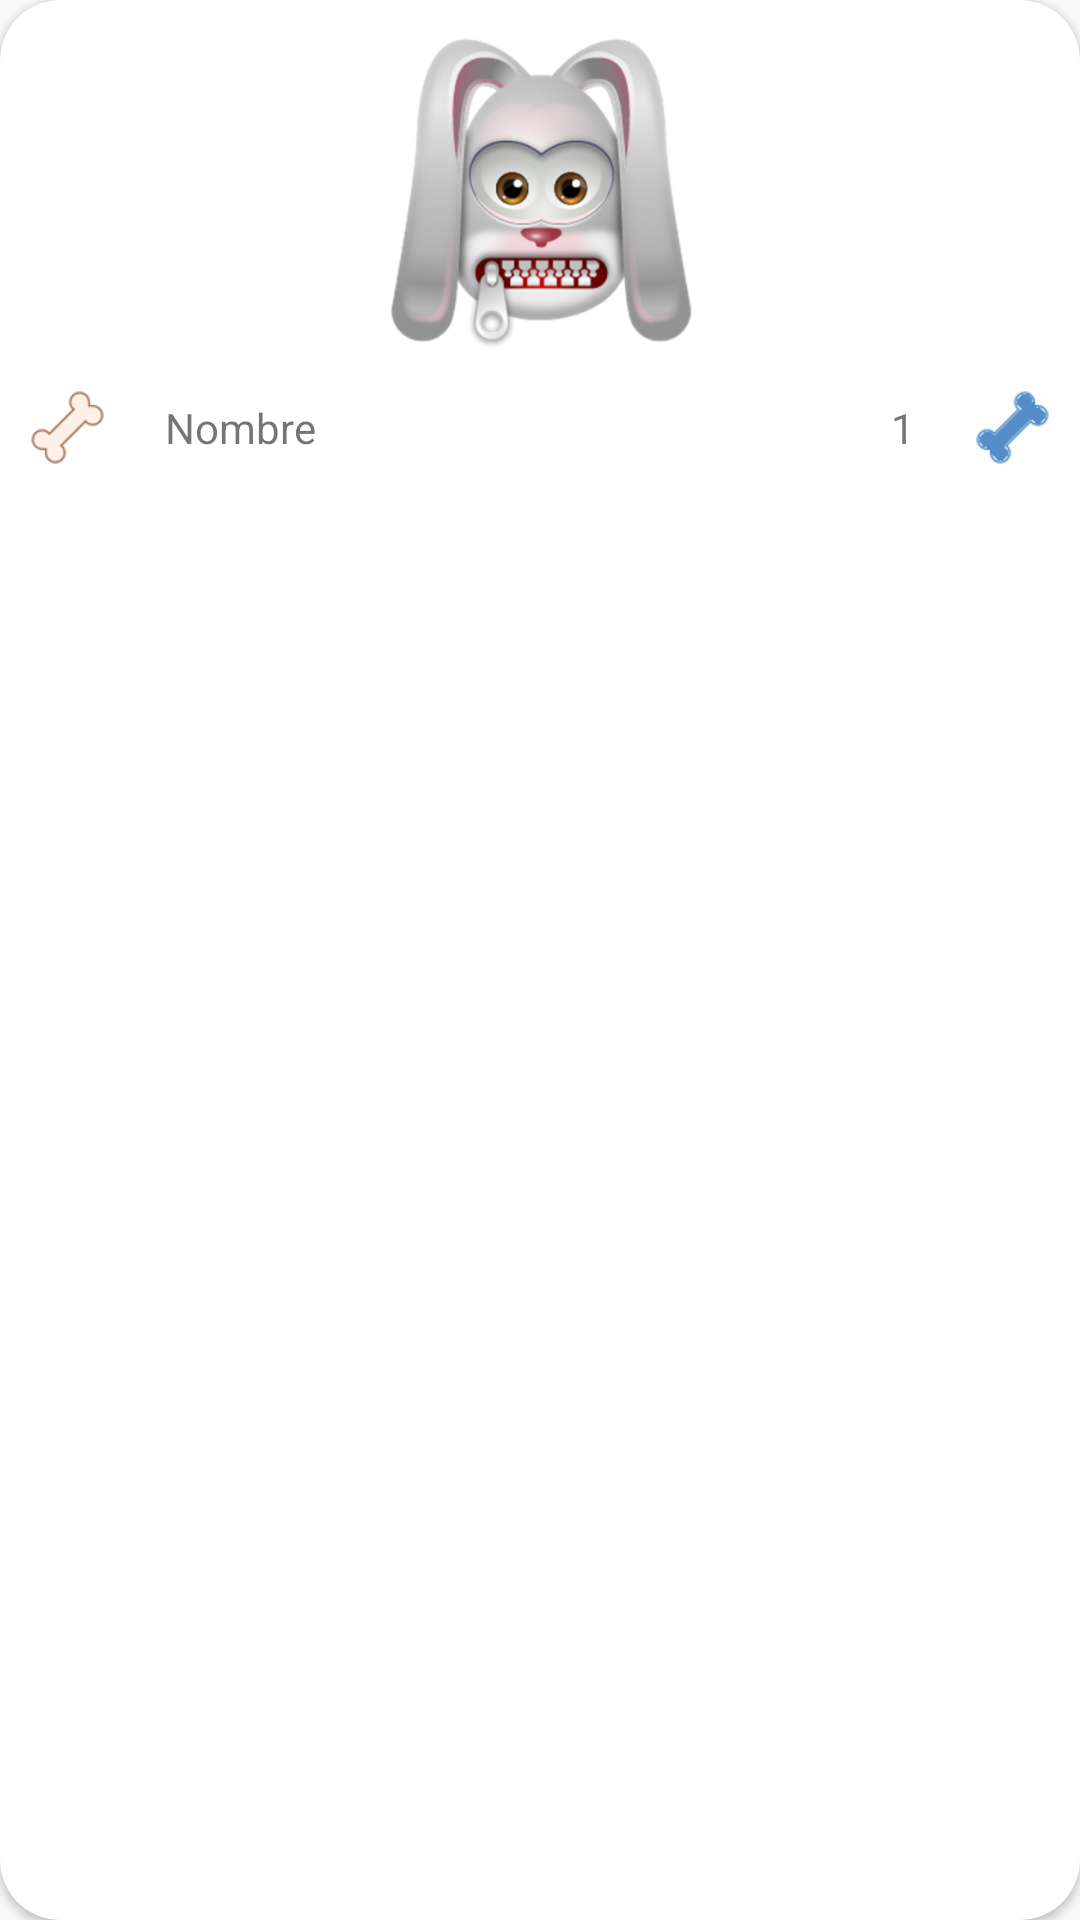

Where to tap for icons on this 1080 x 1920 app screen, as point (x, y):
dog bone: point (67, 427), point (1012, 427)
